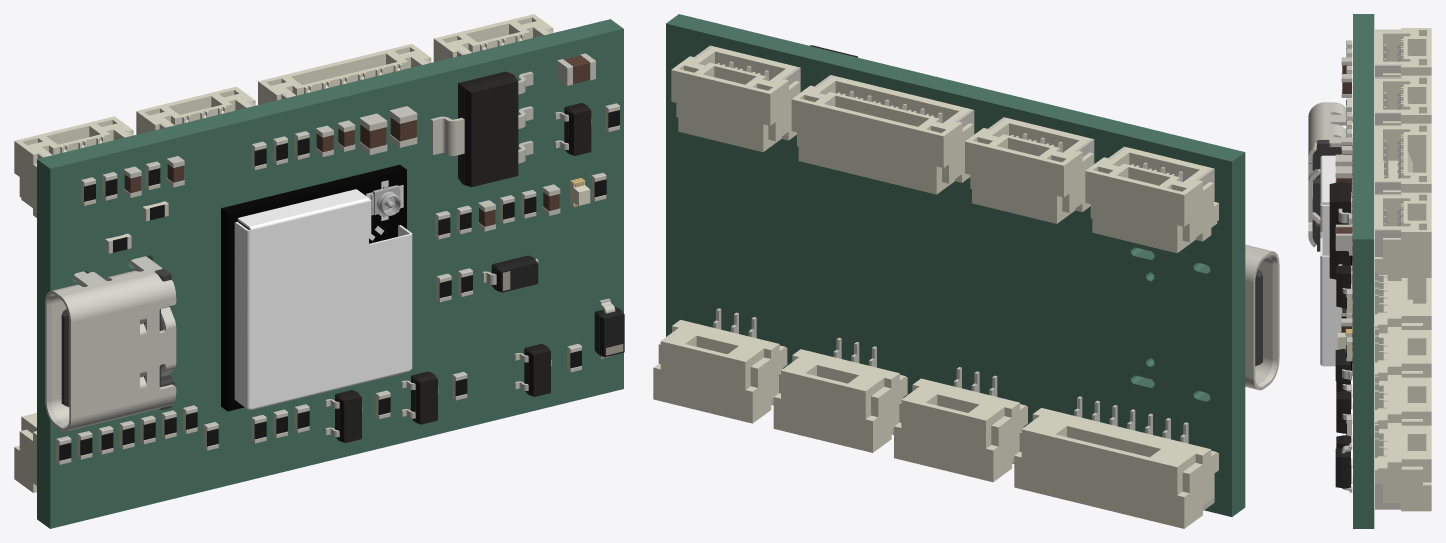
Rendered from board.glb.
3 renders of one model, left to right at view 1: azimuth 30°, elevation 25°; view 2: azimuth 150°, elevation 25°; view 3: azimuth 270°, elevation 25°, orthographic. The views are drawn at different scales.
Visible parts, largest first — view 1: =>[0:1:1:26], =>[0:1:1:7]_fb475d, =>[0:1:1:19]_ea1fbd, =>[0:1:1:7]_eb5311, =>[0:1:1:17]_8ecd7a, =>[0:1:1:23]_b6e05d, =>[0:1:1:21]_2_847f30, =>[0:1:1:21]_4_45f0d4, =>[0:1:1:21]_5b732b, =>[0:1:1:17]_b09478, =>[0:1:1:25]_abff9b, =>[0:1:1:19]_fe80ad (+7 smaller); view 2: =>[0:1:1:26], =>[0:1:1:25]_abff9b, =>[0:1:1:23]_b6e05d, =>[0:1:1:21]_2_847f30, =>[0:1:1:21]_4_45f0d4, =>[0:1:1:21]_5b732b, =>[0:1:1:21]_1_77425d, =>[0:1:1:21]_5_385fef, =>[0:1:1:21]_3_f74dfa, =>[0:1:1:19]_ea1fbd, =>[0:1:1:25]_4ac0c3, =>[0:1:1:19]_fe80ad; view 3: =>[0:1:1:26], =>[0:1:1:21]_5_385fef, =>[0:1:1:21]_4_45f0d4, =>[0:1:1:23]_b6e05d, =>[0:1:1:7]_fb475d, =>[0:1:1:25]_abff9b, =>[0:1:1:21]_1_77425d, =>[0:1:1:21]_3_f74dfa, =>[0:1:1:21]_5b732b, =>[0:1:1:21]_2_847f30, =>[0:1:1:19]_ea1fbd, =>[0:1:1:17]_8ecd7a (+22 smaller).
Part boxes in pixels (x1,y1,x2,y2): =>[0:1:1:26]: (37,19,623,528); =>[0:1:1:7]_fb475d: (234,189,412,410); =>[0:1:1:19]_ea1fbd: (45,256,176,431); =>[0:1:1:7]_eb5311: (221,164,406,411); =>[0:1:1:17]_8ecd7a: (458,71,518,187); =>[0:1:1:23]_b6e05d: (258,44,431,104); =>[0:1:1:21]_2_847f30: (14,116,133,217); =>[0:1:1:21]_4_45f0d4: (433,14,553,61); =>[0:1:1:21]_5b732b: (136,86,255,134); =>[0:1:1:17]_b09478: (430,71,533,163); =>[0:1:1:25]_abff9b: (14,413,36,492); =>[0:1:1:19]_fe80ad: (61,269,174,409); =>[0:1:1:26]: (666,14,1245,516); =>[0:1:1:25]_abff9b: (1014,408,1218,528); =>[0:1:1:23]_b6e05d: (791,75,973,194); =>[0:1:1:21]_2_847f30: (1085,147,1218,253); =>[0:1:1:21]_4_45f0d4: (671,46,799,152); =>[0:1:1:21]_5b732b: (965,118,1093,223); =>[0:1:1:21]_1_77425d: (773,349,907,452); =>[0:1:1:21]_5_385fef: (653,320,787,423); =>[0:1:1:21]_3_f74dfa: (894,378,1027,482); =>[0:1:1:19]_ea1fbd: (1145,244,1279,394); =>[0:1:1:25]_4ac0c3: (1074,396,1214,510); =>[0:1:1:19]_fe80ad: (1255,269,1262,366); =>[0:1:1:26]: (1353,14,1374,528); =>[0:1:1:21]_5_385fef: (1375,423,1431,511); =>[0:1:1:21]_4_45f0d4: (1375,192,1431,280); =>[0:1:1:23]_b6e05d: (1375,123,1431,194); =>[0:1:1:7]_fb475d: (1320,155,1341,366); =>[0:1:1:25]_abff9b: (1375,275,1431,333); =>[0:1:1:21]_1_77425d: (1375,375,1431,428); =>[0:1:1:21]_3_f74dfa: (1375,327,1431,380); =>[0:1:1:21]_5b732b: (1375,75,1431,125); =>[0:1:1:21]_2_847f30: (1375,28,1431,77); =>[0:1:1:19]_ea1fbd: (1308,102,1352,247); =>[0:1:1:17]_8ecd7a: (1329,182,1350,279).
Bounding box in the file's own units: 40.48 × 24 × 9.26.
